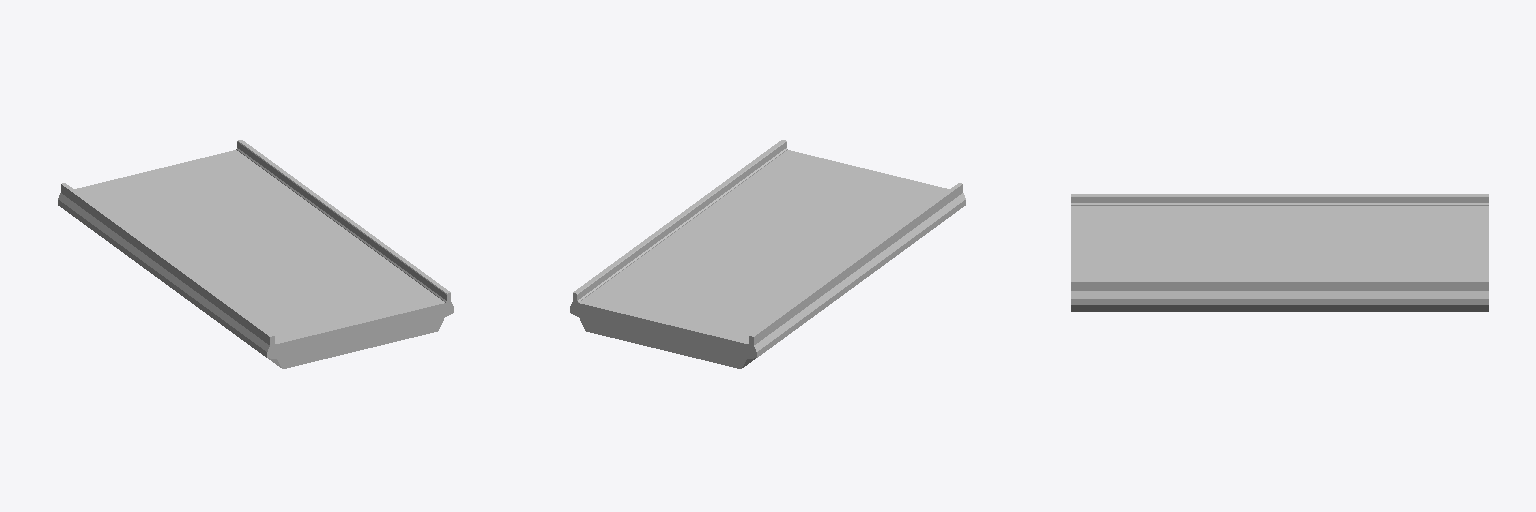
The model's file is Elevated.obj.
3 renders of one model, left to right at view 1: azimuth 30°, elevation 25°; view 2: azimuth 150°, elevation 25°; view 3: azimuth 270°, elevation 25°, orthographic.
Visible parts, largest first — view 1: Plane01_0; view 2: Plane01_0; view 3: Plane01_0.
Part boxes in pixels (bbox=[...]): Plane01_0: bbox=[58, 140, 453, 368]; Plane01_0: bbox=[570, 140, 965, 368]; Plane01_0: bbox=[1071, 194, 1488, 311].
Bounding box in the file's own units: 32.97 × 6 × 64.